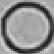no answer: (3, 3, 53, 53)
